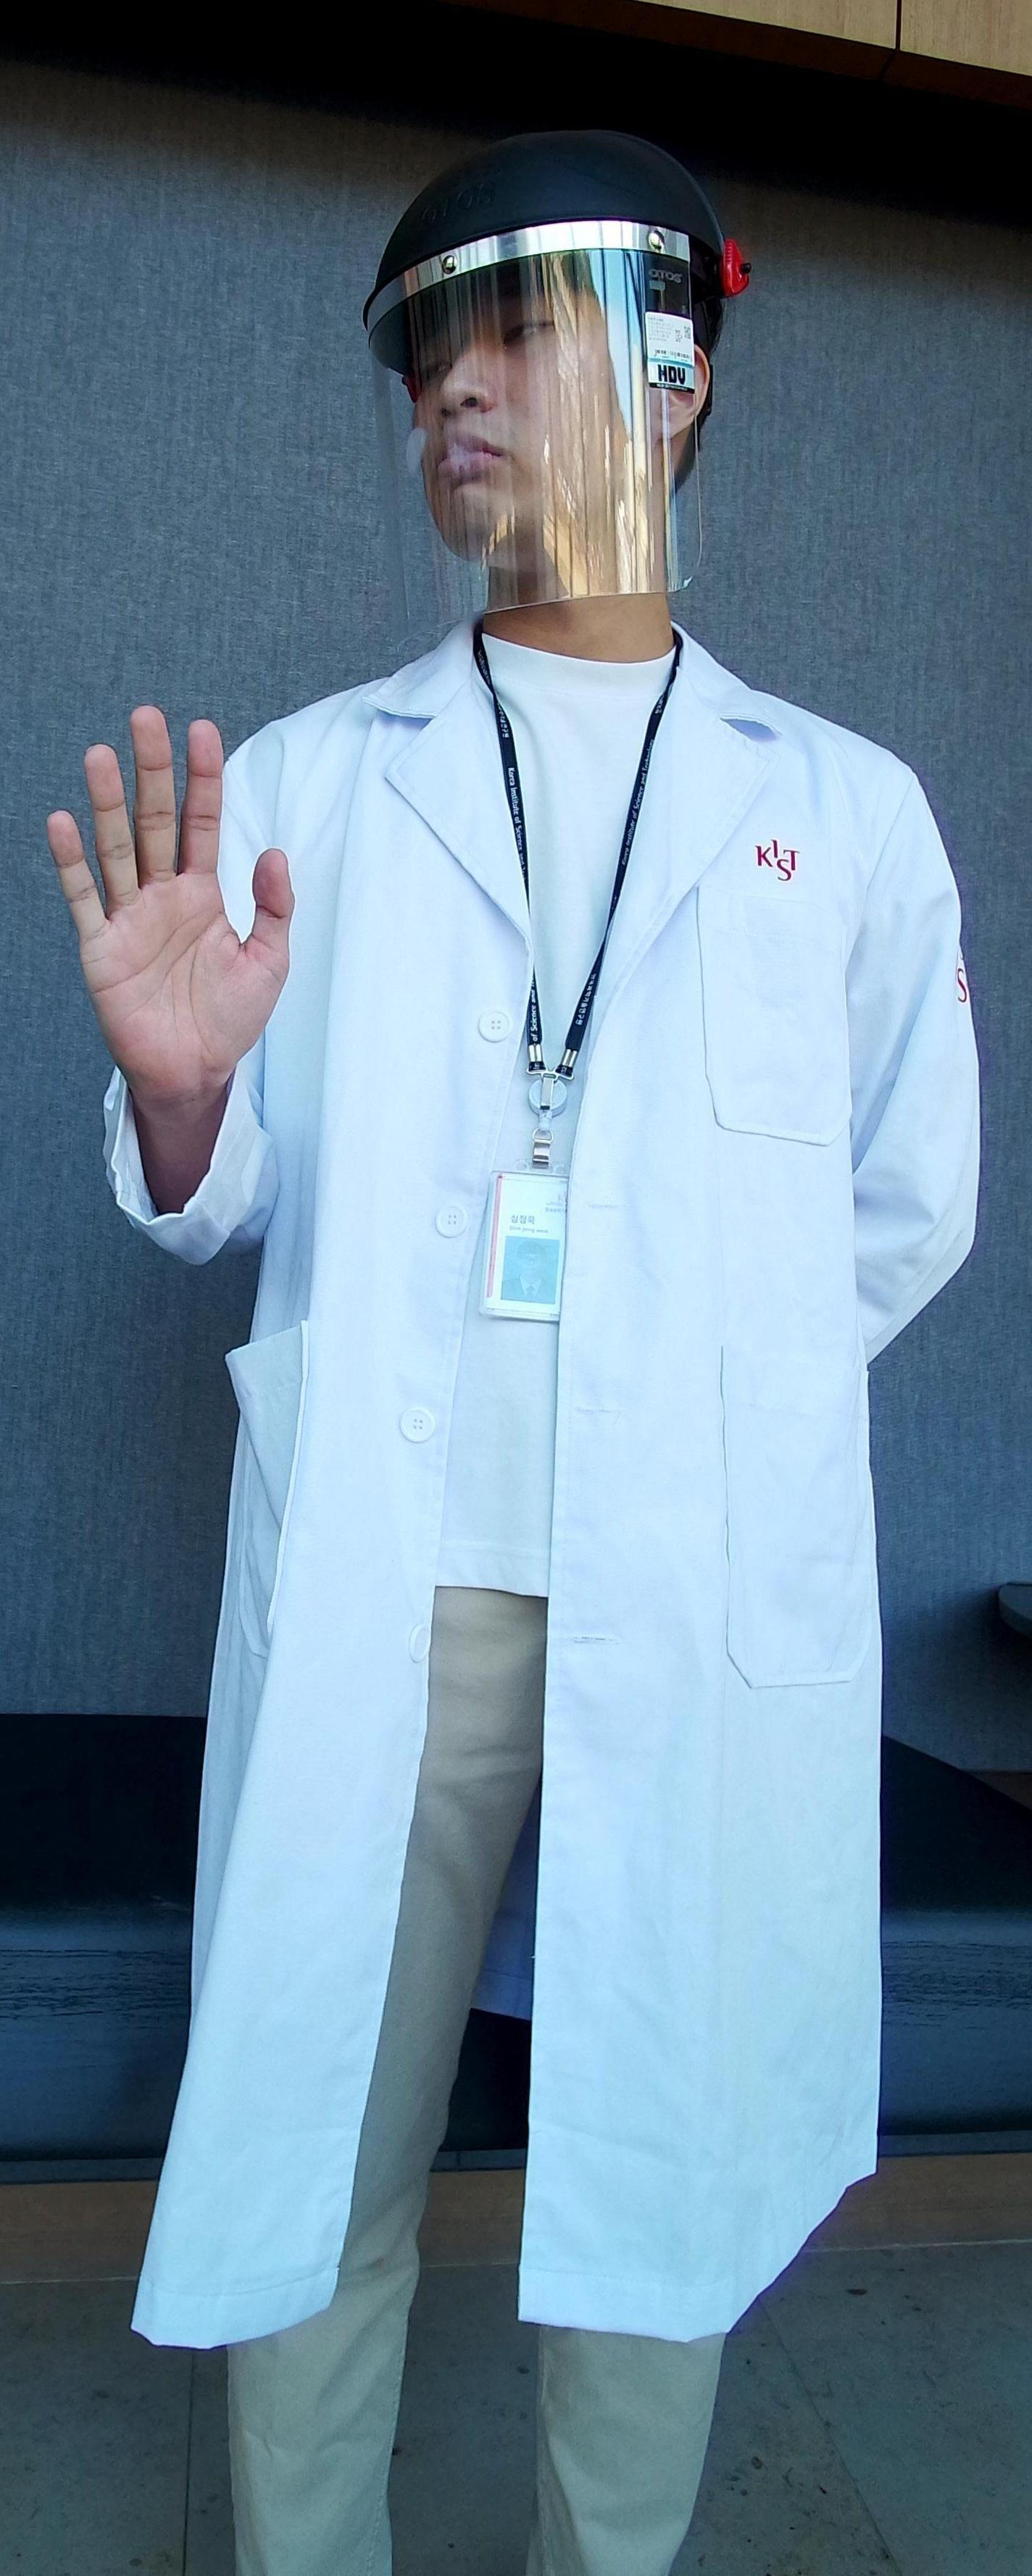lab_coat: (228, 762, 958, 2264)
